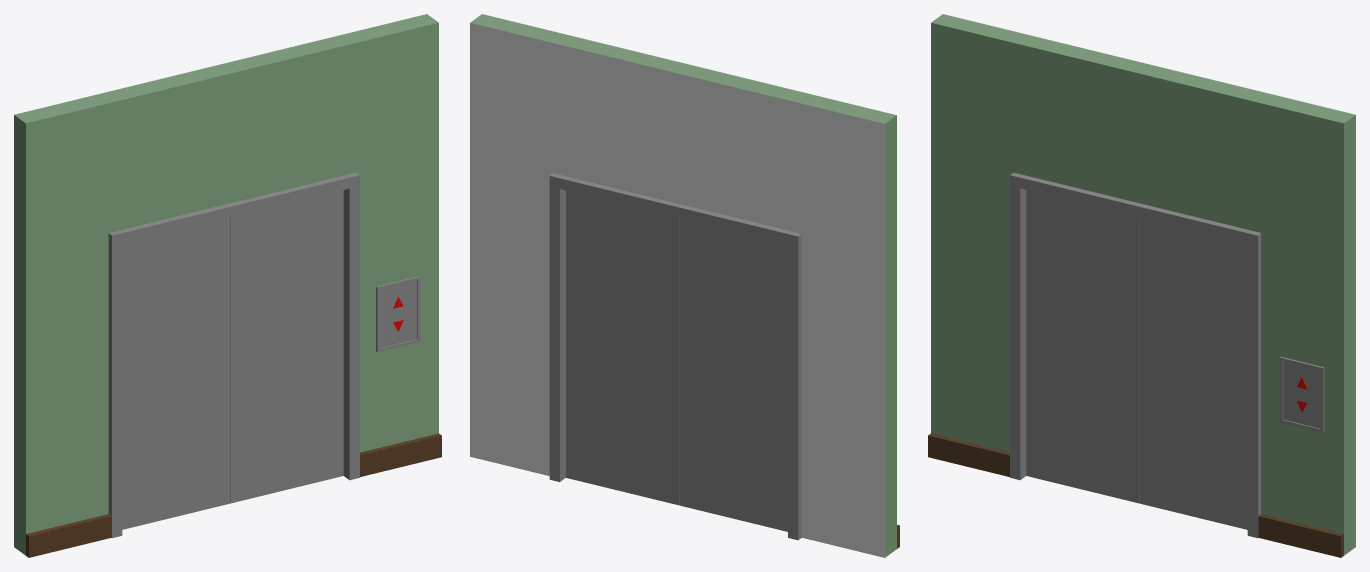
Rendered from h_wall_1_elevatorDoor.fbx.
3 views of the same model, side by side, from view 1: azimuth 30°, elevation 25°; view 2: azimuth 150°, elevation 25°; view 3: azimuth 330°, elevation 25° (orthographic).
Parts seen in each view (by area): view 1: Cube, Door_R, Door_L, Buttons; view 2: Cube, Door_R, Door_L; view 3: Cube, Door_L, Door_R, Buttons.
Boxes of the visible parts, left/top/right/bottom form: Cube: left=14, top=14, right=441, bottom=557; Door_R: left=230, top=190, right=343, bottom=503; Door_L: left=122, top=218, right=229, bottom=529; Buttons: left=376, top=276, right=420, bottom=352; Cube: left=470, top=14, right=899, bottom=557; Door_R: left=566, top=191, right=679, bottom=505; Door_L: left=680, top=218, right=787, bottom=531; Cube: left=928, top=14, right=1355, bottom=557; Door_L: left=1026, top=190, right=1139, bottom=503; Door_R: left=1140, top=218, right=1247, bottom=529; Buttons: left=1280, top=356, right=1324, bottom=432.
Size of the model in its own units: 400 by 400 by 32.
